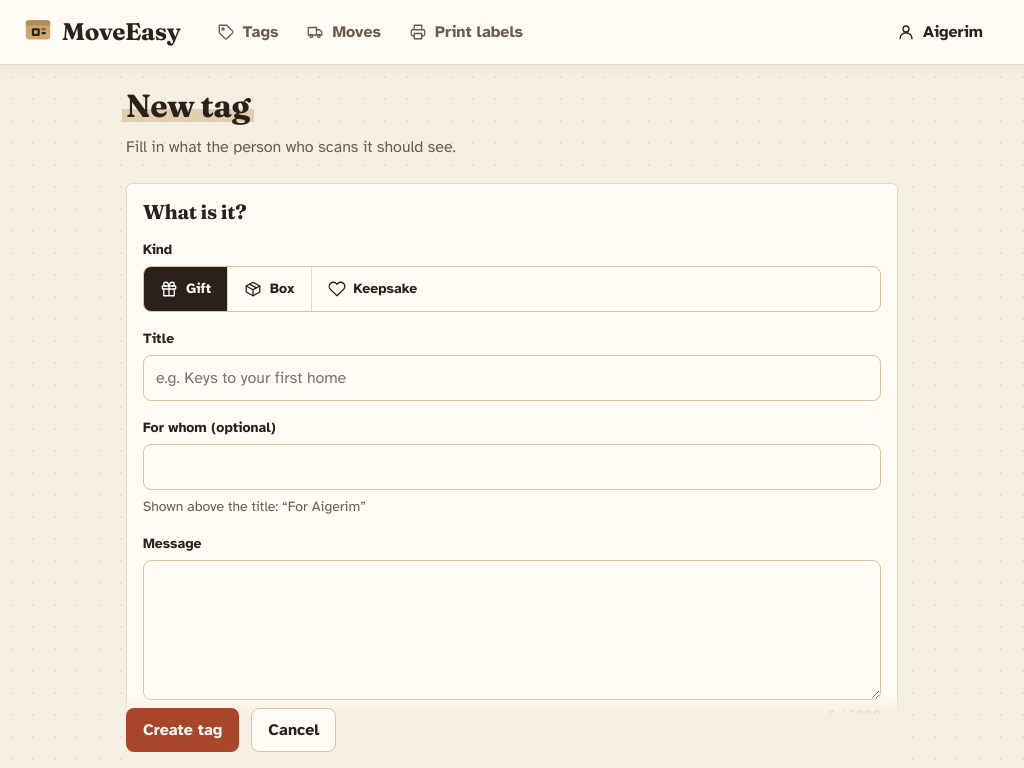
it: backend errors (#37) › a failed save keeps what was typed
Type "Still here" into the field labelled "Title".
click(512, 378); type("Still here")  # box x1=143 y1=355 x2=881 y2=401
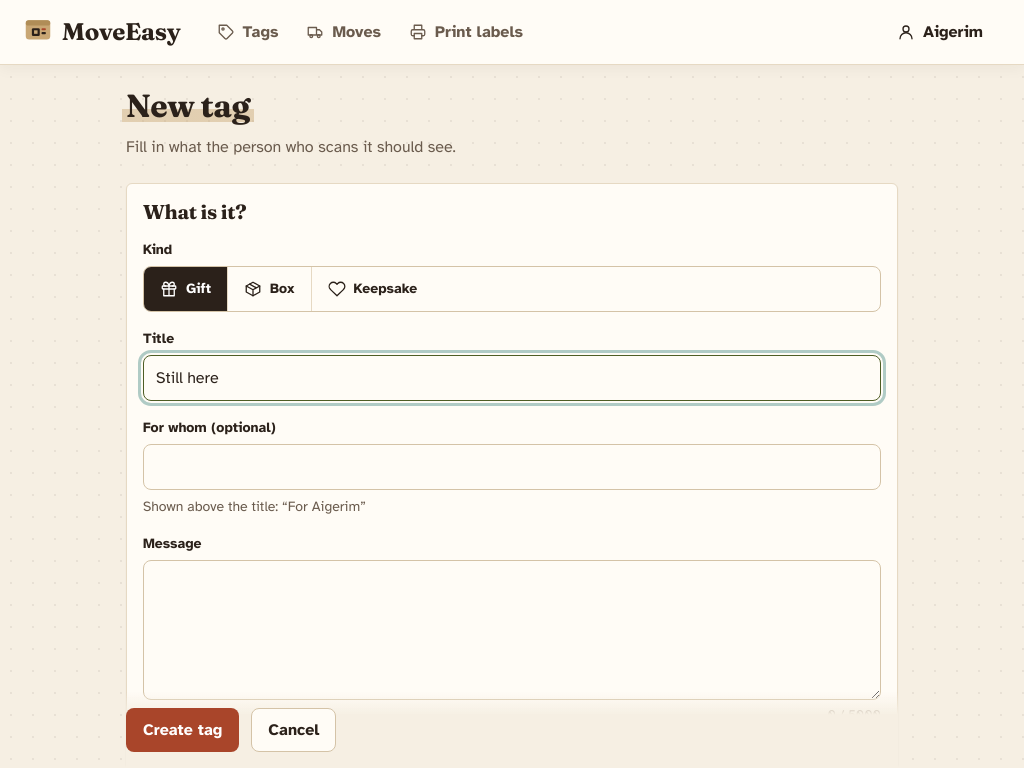
Click the button "Create tag".
click(183, 730)  # box x1=126 y1=708 x2=239 y2=752
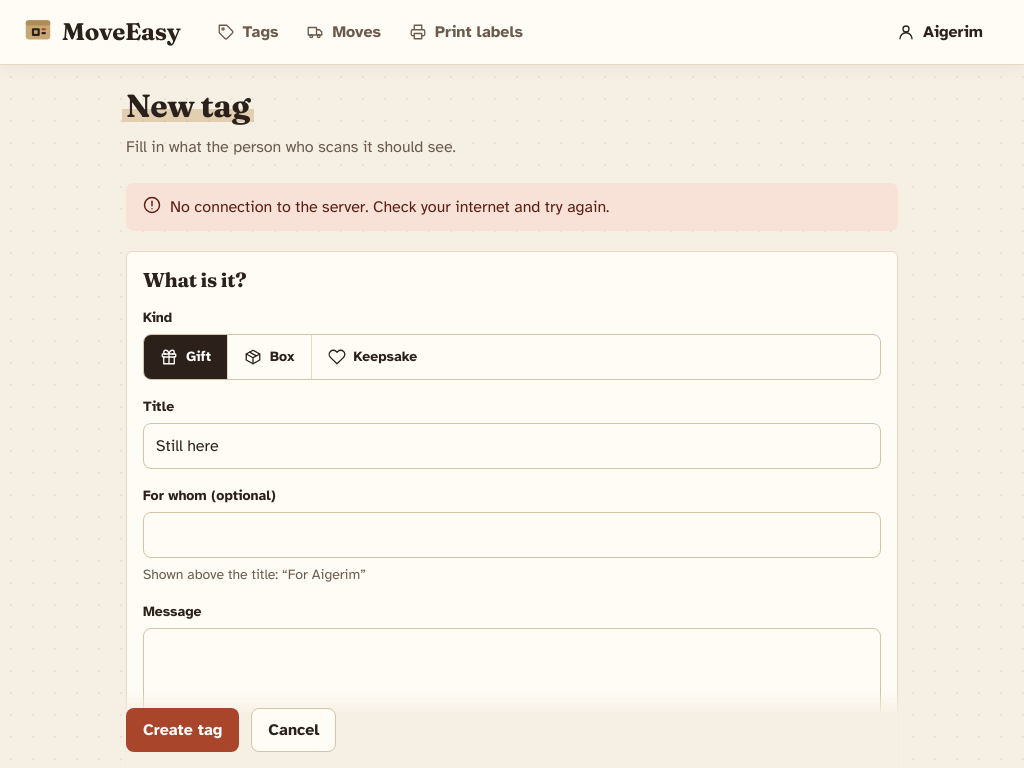
Check: the text "No connection to the server. Check your internet and try again." is shown, box x1=126 y1=183 x2=898 y2=231
